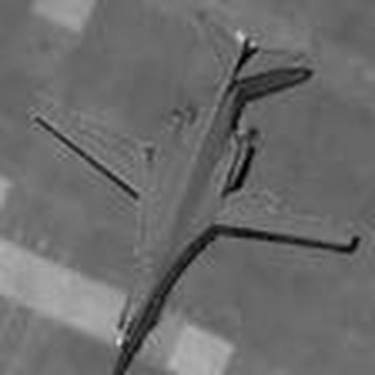airplane: (16, 5, 362, 367)
